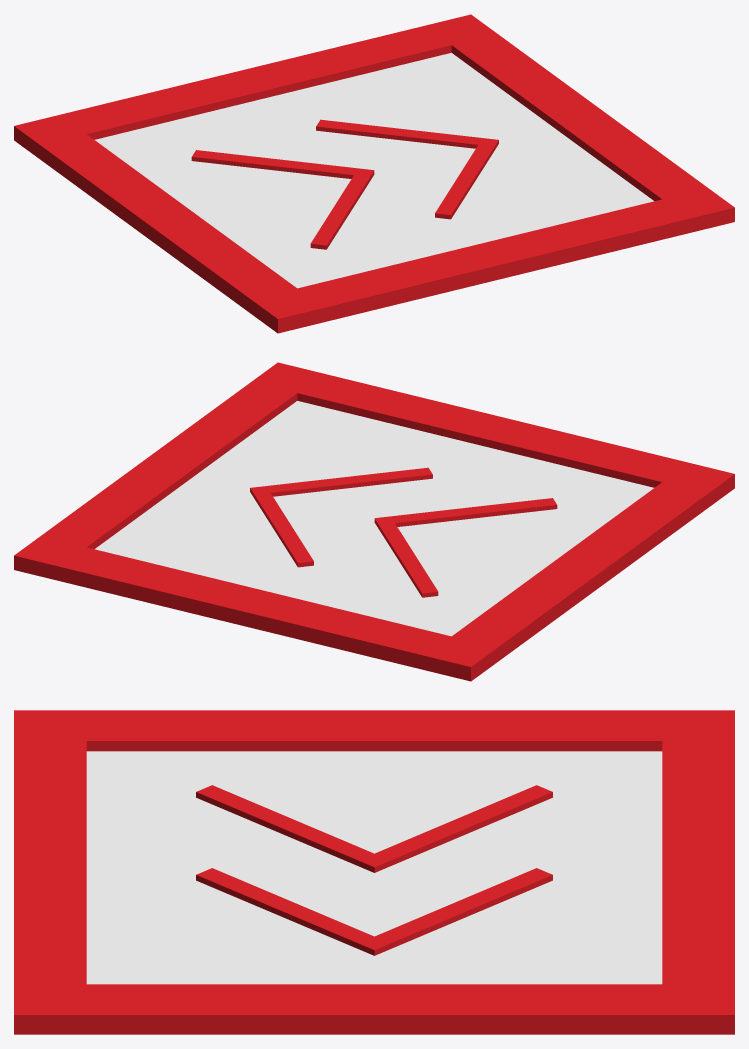
Rendered from jumppad_red.fbx.
3 renders of one model, top to bottom at view 1: azimuth 30°, elevation 25°; view 2: azimuth 150°, elevation 25°; view 3: azimuth 270°, elevation 25°, orthographic. The views are drawn at different scales.
Visible parts, largest first — view 1: Mesh; view 2: Mesh; view 3: Mesh.
Part boxes in pixels (x1,y1,x2,y2): Mesh: (14, 14, 734, 333); Mesh: (14, 362, 734, 681); Mesh: (14, 710, 734, 1034).
Bounding box in the file's own units: 1 × 0.0302 × 1.
